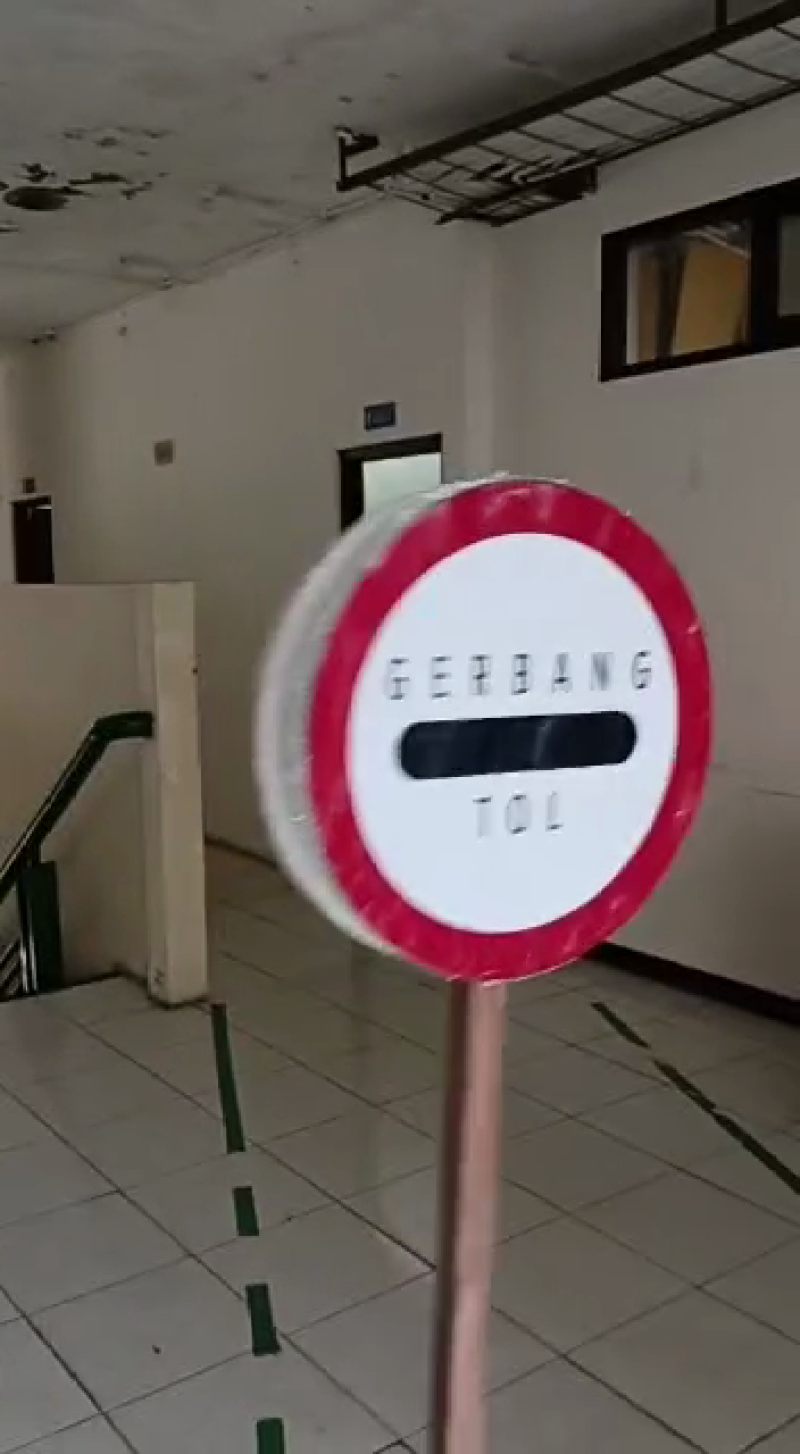gerbang tol: (287, 459, 720, 987)
